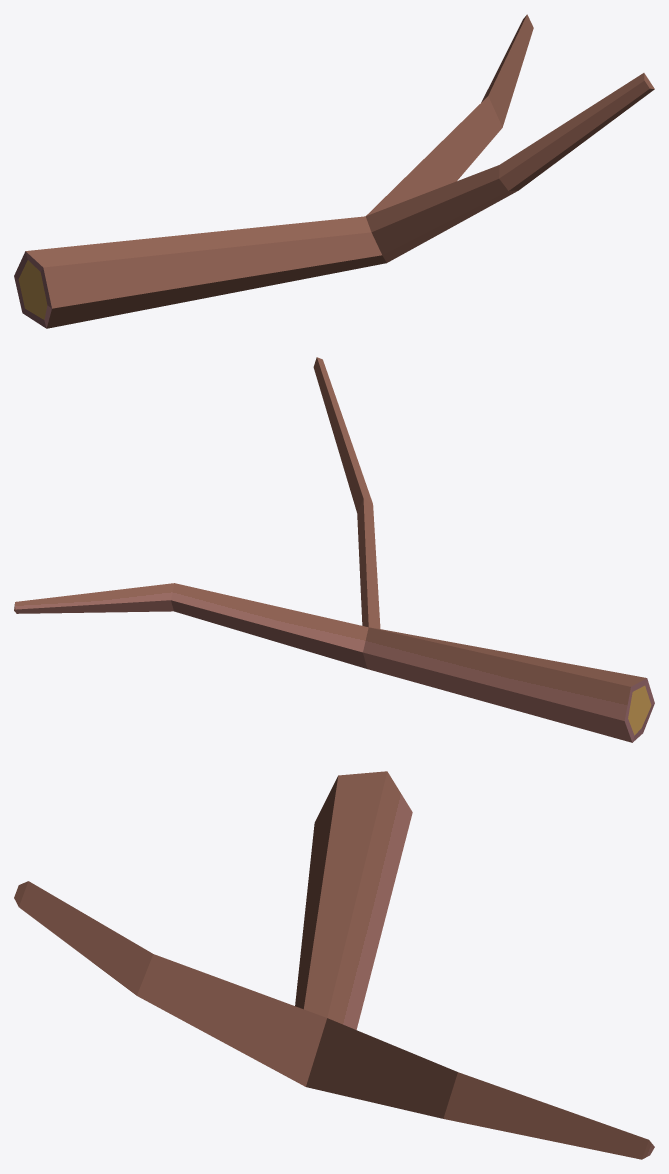
File: BushClutter.fbx
3 renders of one model, top to bottom at view 1: azimuth 30°, elevation 25°; view 2: azimuth 150°, elevation 25°; view 3: azimuth 270°, elevation 25°, orthographic. The views are drawn at different scales.
Visible parts, largest first — view 1: BushClutter; view 2: BushClutter; view 3: BushClutter.
Boxes of the visible parts, box(x1,y1,x2,y2) form: BushClutter: box(14, 14, 654, 328); BushClutter: box(14, 357, 654, 742); BushClutter: box(14, 771, 654, 1159).
Size of the model in its own units: 1.11 by 0.3987 by 0.7501.
